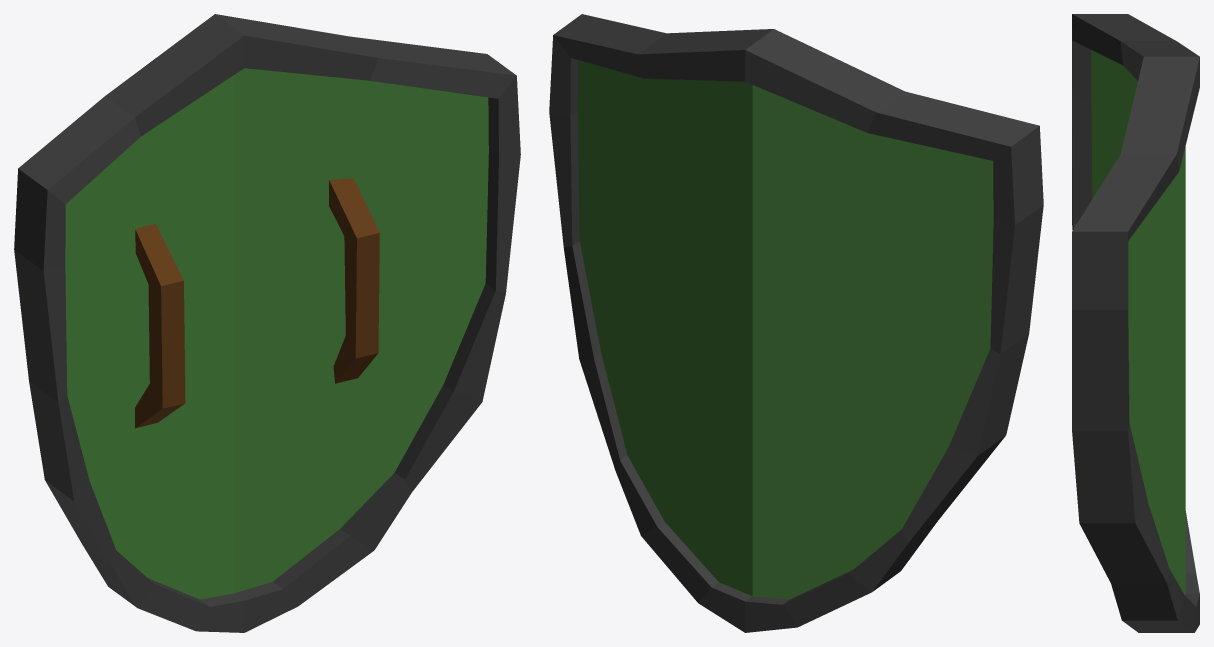
File: ShieldGreen.fbx
3 renders of one model, left to right at view 1: azimuth 30°, elevation 25°; view 2: azimuth 150°, elevation 25°; view 3: azimuth 270°, elevation 25°, orthographic. The views are drawn at different scales.
Visible parts, largest first — view 1: Plane, Plane.001; view 2: Plane; view 3: Plane.
Part boxes in pixels (x1,y1,x2,y2): Plane: [14, 14, 520, 632]; Plane.001: [135, 178, 379, 428]; Plane: [549, 14, 1043, 632]; Plane: [1072, 14, 1199, 632].
Bounding box in the file's own units: 217 × 260 × 53.02.
1 material, 1 textured.
